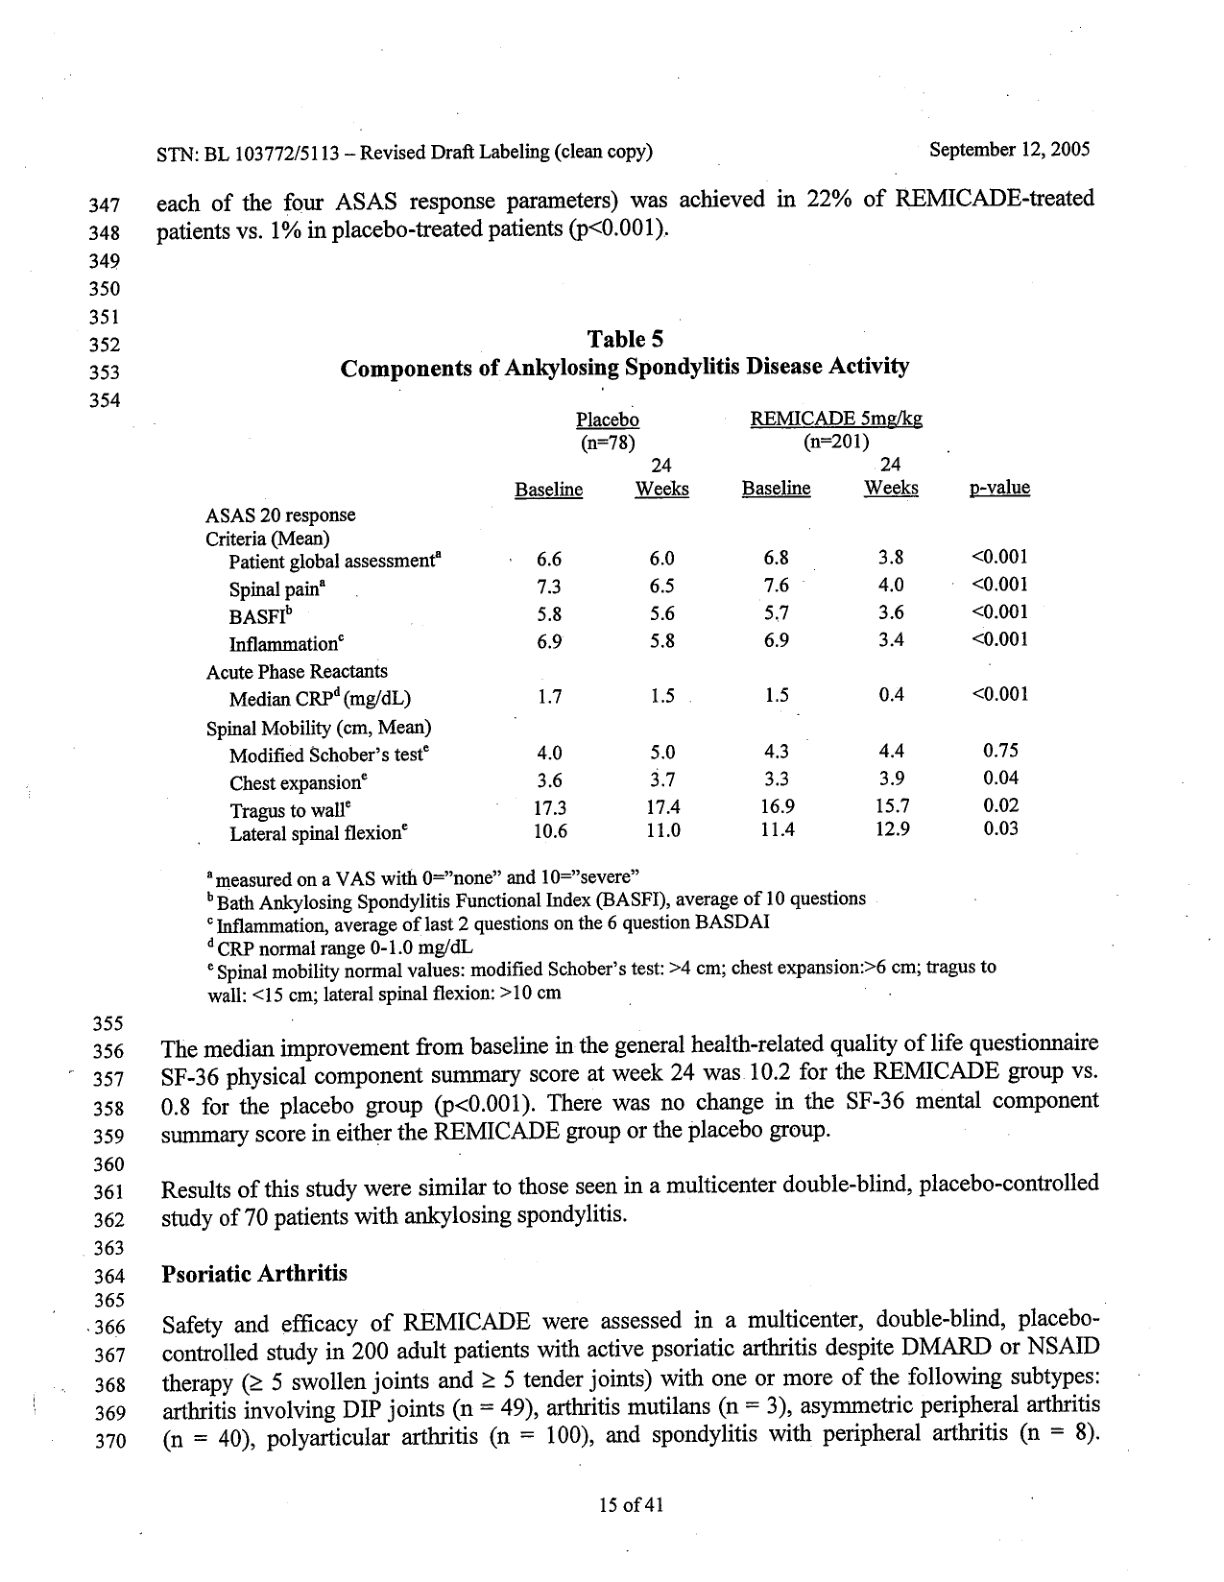nolines: (203, 410, 1036, 847)
